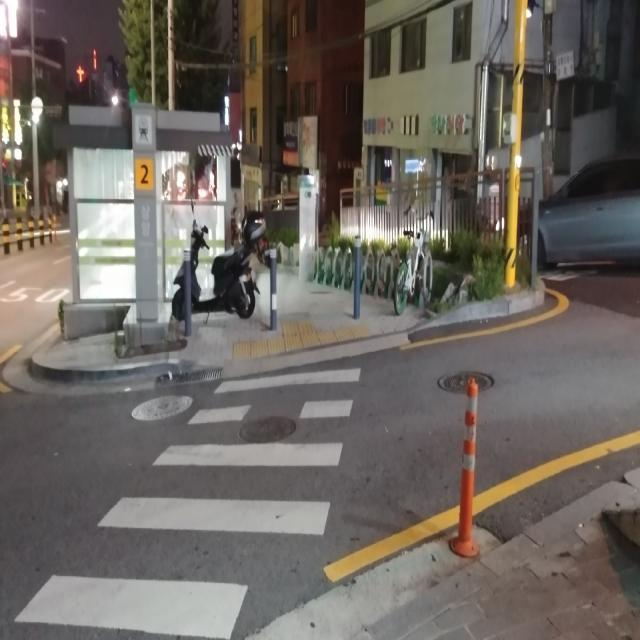횡단보도: (13, 367, 361, 640)
